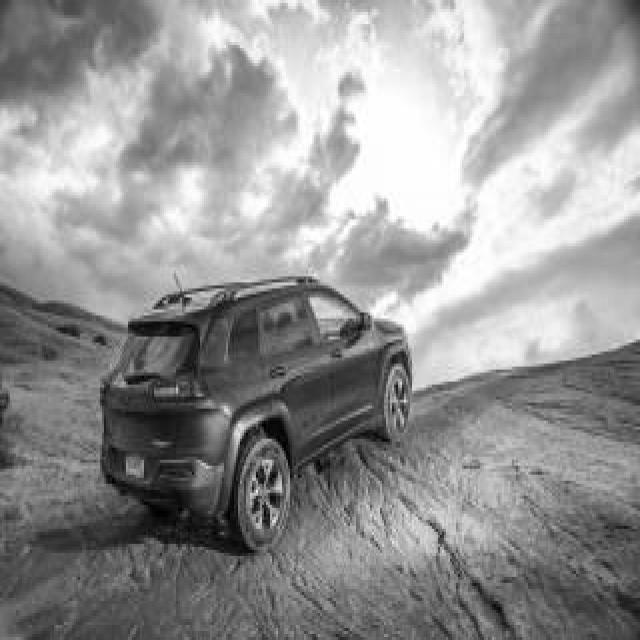Car: (100, 276, 413, 551)
